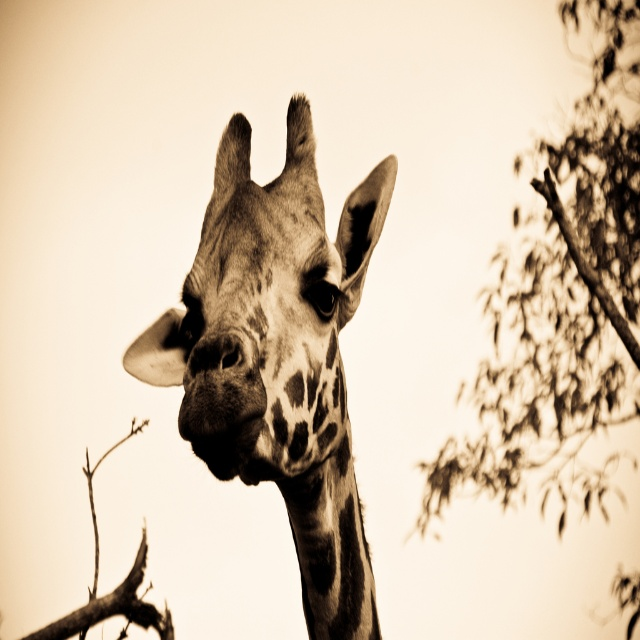Giraffe: (118, 89, 404, 635)
